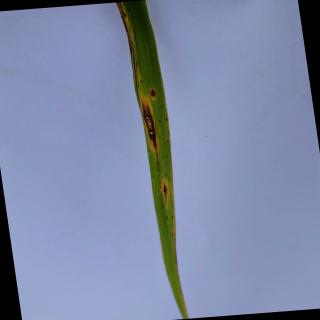Blast: (142, 102, 158, 151), (115, 2, 126, 18), (162, 180, 168, 202), (150, 88, 157, 101)
